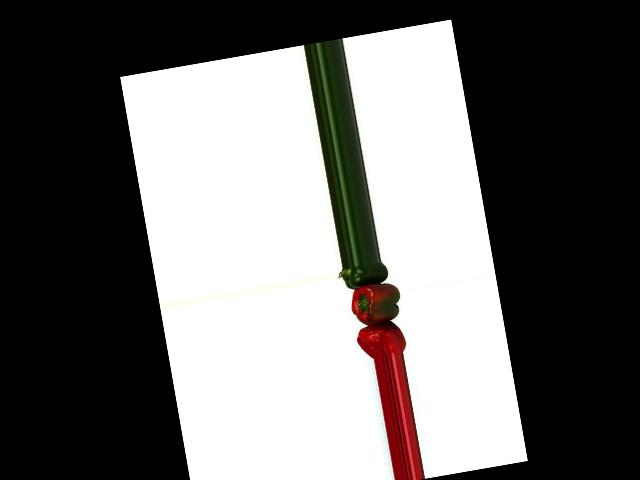bell_pepper: (350, 317, 410, 361)
